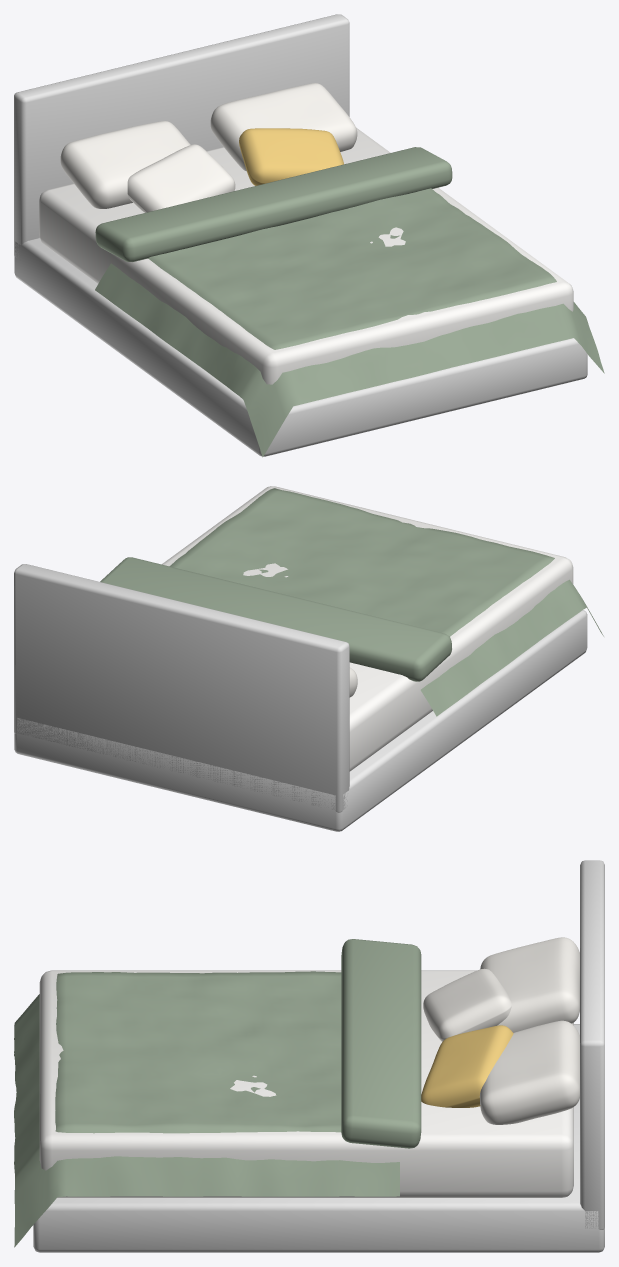
File: Modern_Platform_Bed.fbx
The picture shows the model from 3 angles, top to bottom: view 1: azimuth 30°, elevation 25°; view 2: azimuth 150°, elevation 25°; view 3: azimuth 270°, elevation 25°; orthographic projection. The views are drawn at different scales.
Visible parts, largest first — view 1: Modern_Platform_Bed; view 2: Modern_Platform_Bed; view 3: Modern_Platform_Bed.
Boxes of the visible parts, x1,y1,x2,y2 form: Modern_Platform_Bed: (14, 14, 604, 457); Modern_Platform_Bed: (14, 486, 603, 831); Modern_Platform_Bed: (14, 860, 604, 1252).
Bounding box in the file's own units: 184 × 94.5 × 238.
